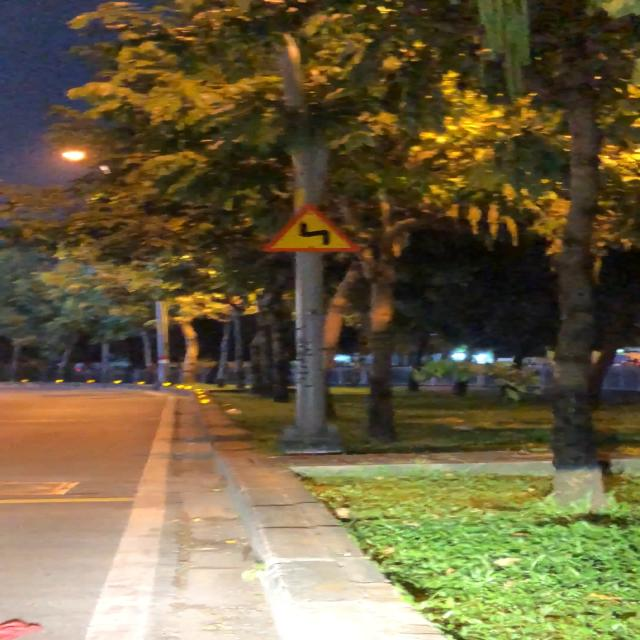Bien bao nhieu cho ngoat nguy hiem lien tiep: (254, 202, 363, 256)
